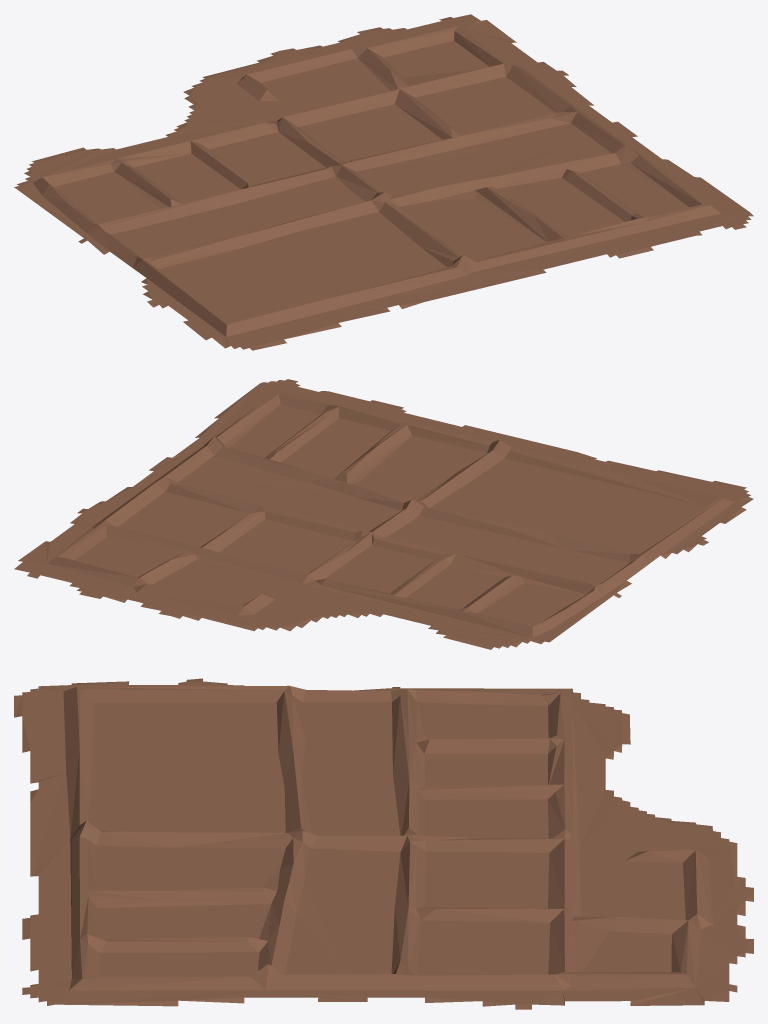
File: salt-pond-pond.obj
3 views of the same model, one above another, from view 1: azimuth 30°, elevation 25°; view 2: azimuth 150°, elevation 25°; view 3: azimuth 270°, elevation 25° (orthographic). The views are drawn at different scales.
Parts seen in each view (by area): view 1: Plane; view 2: Plane; view 3: Plane.
Part boxes in pixels (box(x1,y1,x2,y2)): Plane: box(14, 14, 753, 350); Plane: box(14, 379, 753, 649); Plane: box(14, 678, 753, 1009).
Size of the model in its own units: 1.92 by 0.0578 by 1.82.
